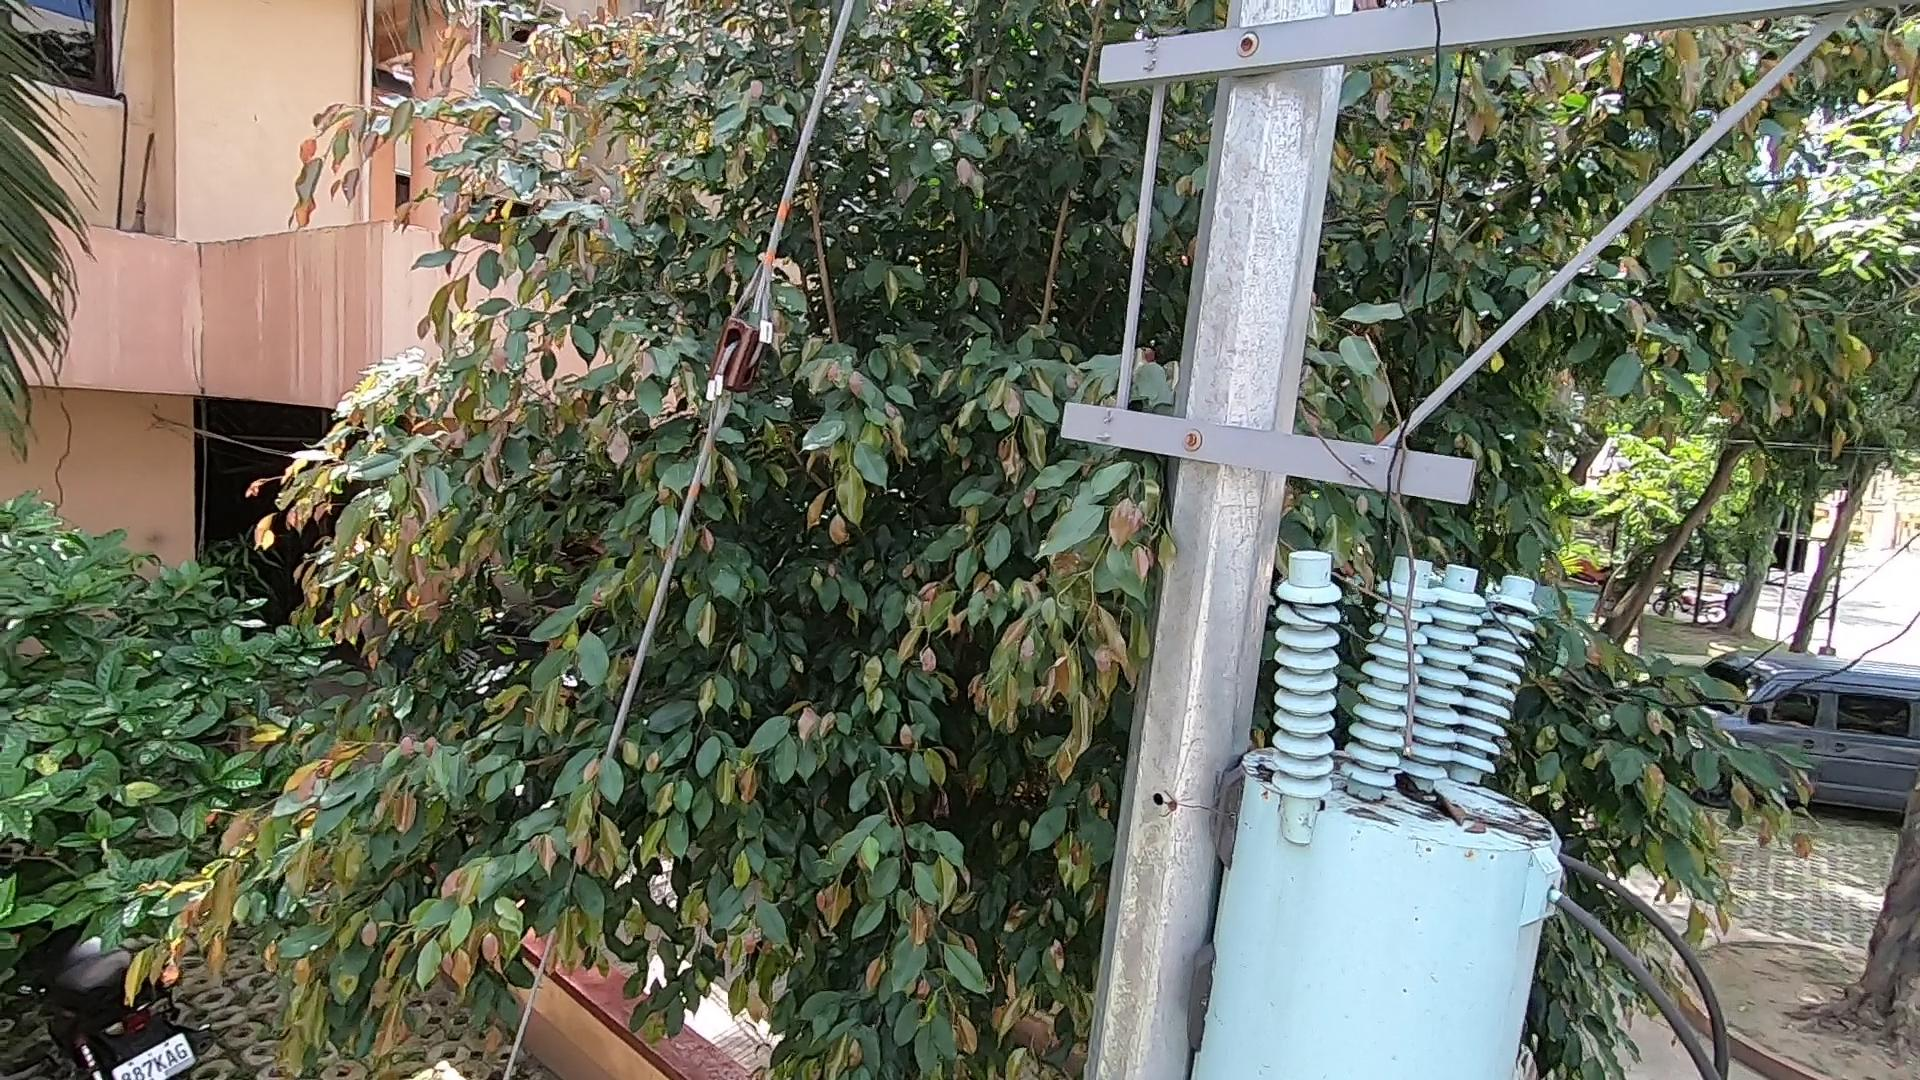leaf: (1389, 771, 1469, 829)
tree branch: (1299, 339, 1451, 760)
